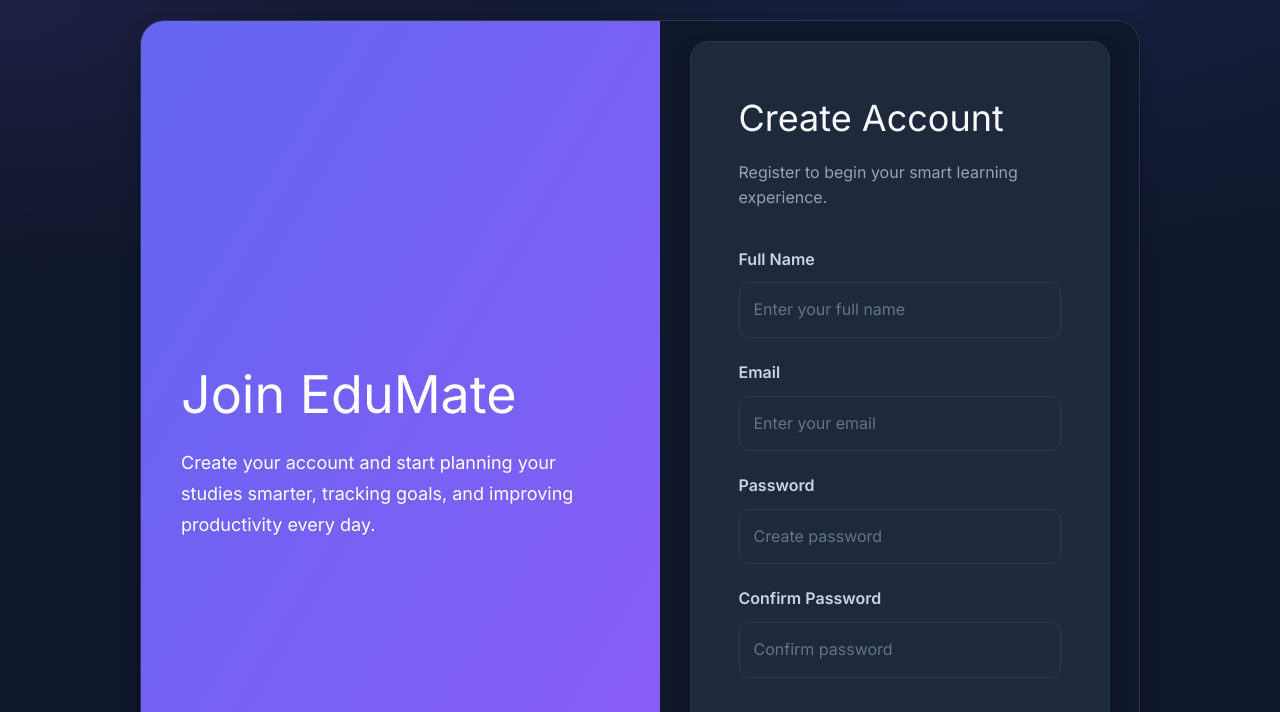
it: Form Validation › register form shows password mismatch error
In the password field with placeholder "Create password": (900, 537) [738,509,1060,564], type "Test@123"
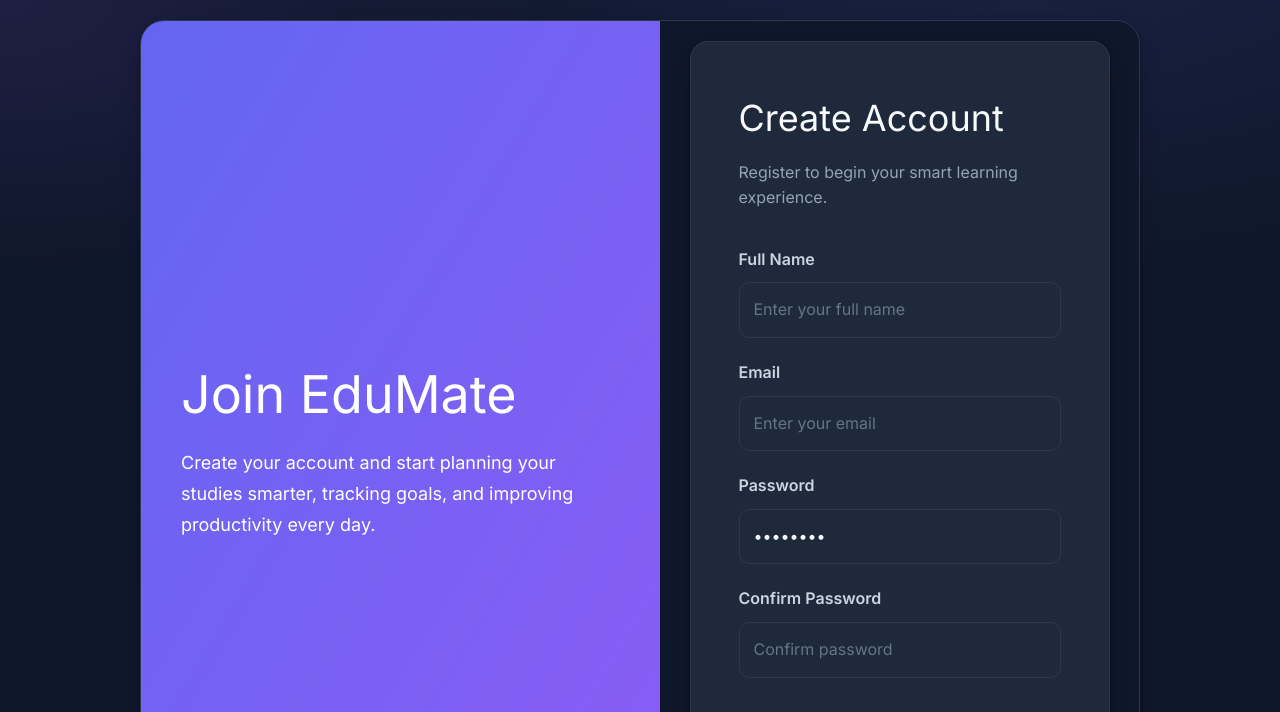
In the password field with placeholder "Confirm Password": (900, 650) [738,622,1060,678], type "Test@456"
(page scrolled)
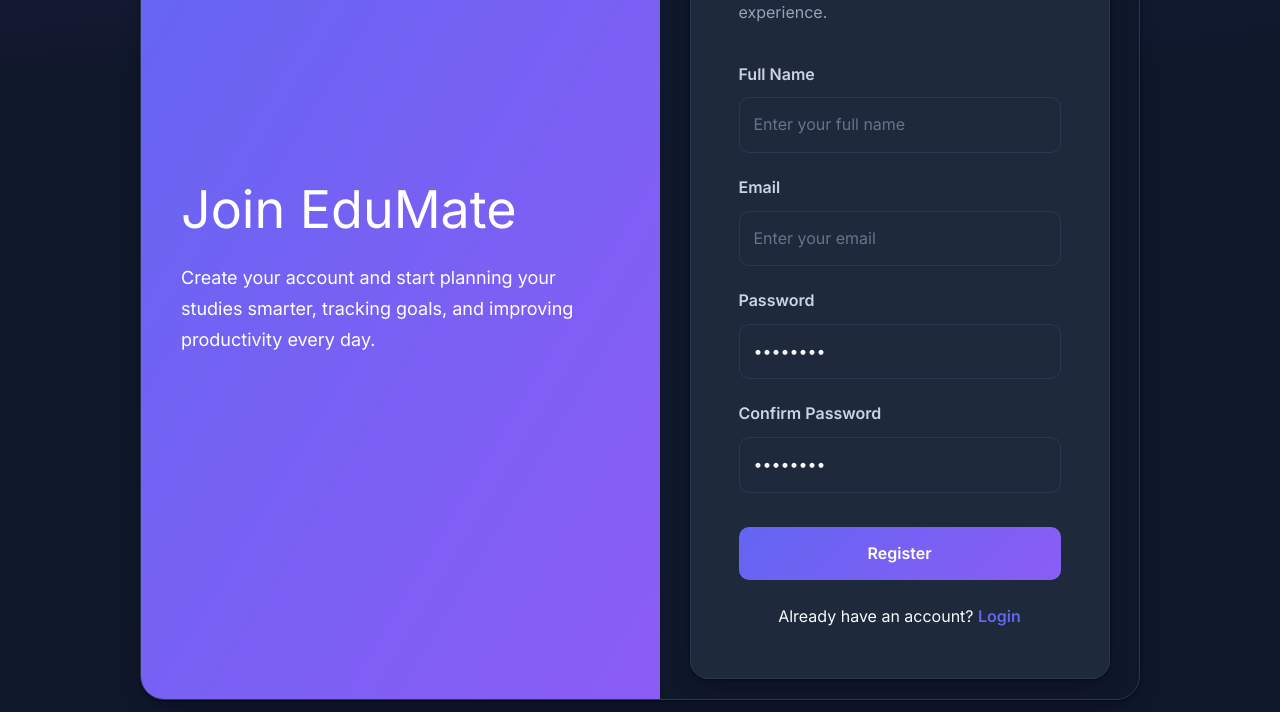
Click the button "Register": (900, 553) [738,526,1060,580]
(page scrolled)
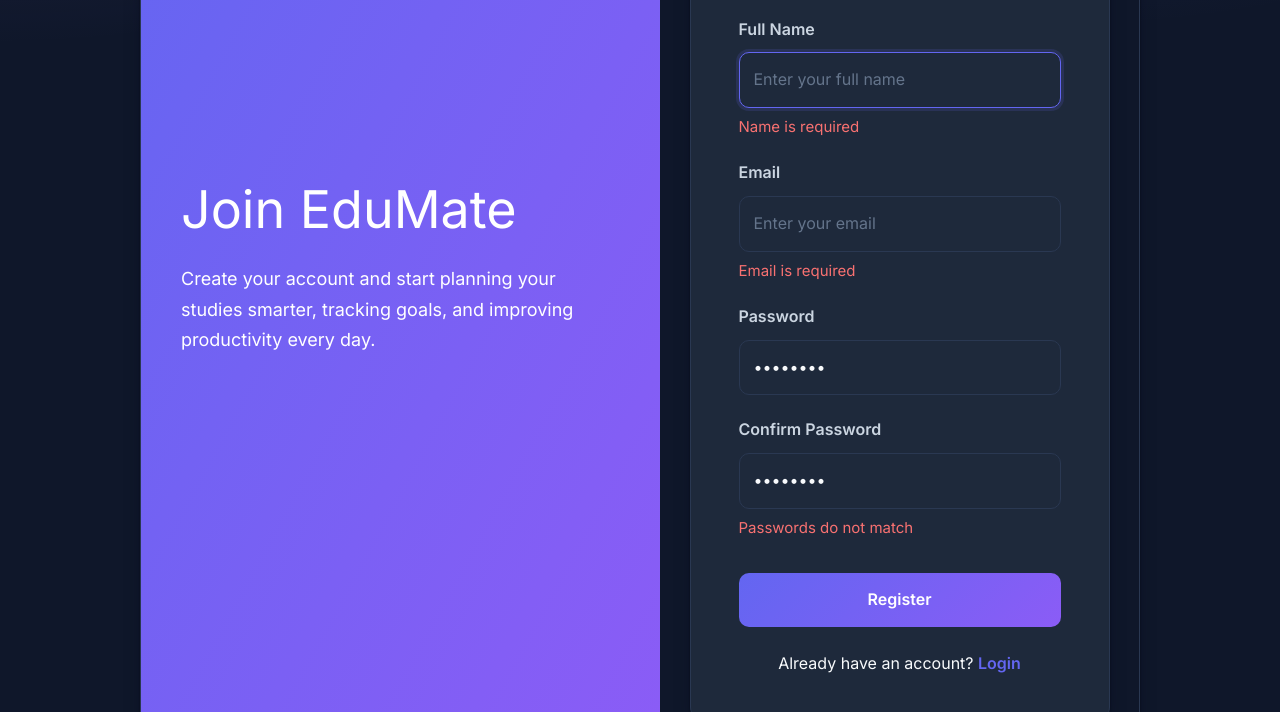
Now the text "Passwords do not match" is shown, box [738,518,913,536]
